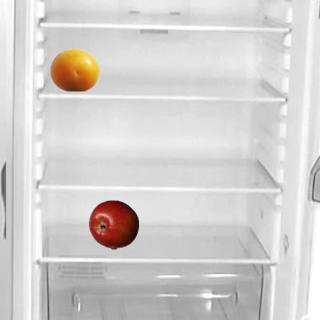Apple Braeburn: (88, 199, 138, 249)
Cherry Wax Yellow: (49, 44, 99, 94)
